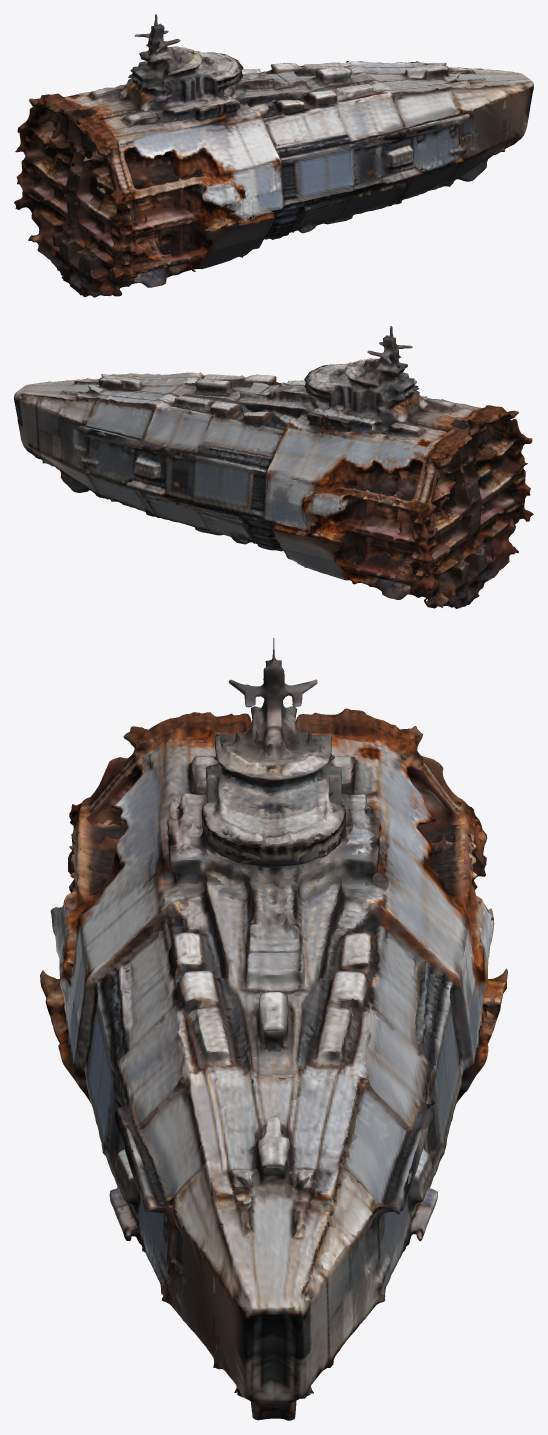
The model's file is spacecruiser (1).glb.
The picture shows the model from 3 angles, top to bottom: view 1: azimuth 30°, elevation 25°; view 2: azimuth 150°, elevation 25°; view 3: azimuth 270°, elevation 25°; orthographic projection. The views are drawn at different scales.
Parts seen in each view (by area): view 1: input; view 2: input; view 3: input.
Part boxes in pixels (x1=…): input: x1=14, y1=14, x2=533, y2=297; input: x1=14, y1=326, x2=533, y2=608; input: x1=40, y1=638, x2=507, y2=1420.
Bounding box in the file's own units: 90 × 48.51 × 39.36.
1 material, 1 textured.
